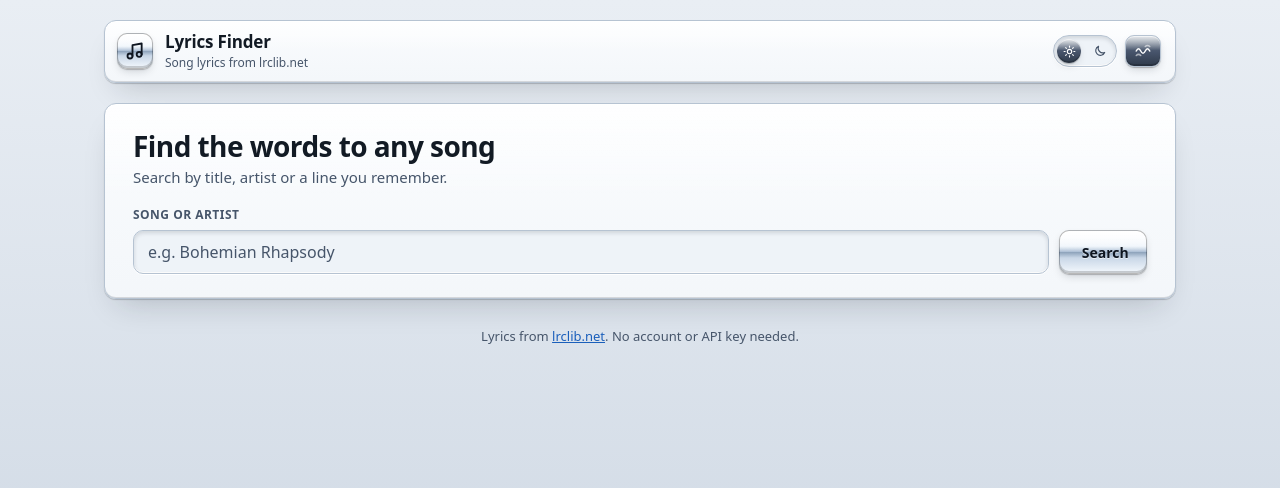
Test: search › says when nothing matched
The image size is (1280, 488).
Type "zzzz" into the search field labelled "Song or artist" at {"x": 591, "y": 252}, box [133, 230, 1049, 274]
Then press Enter
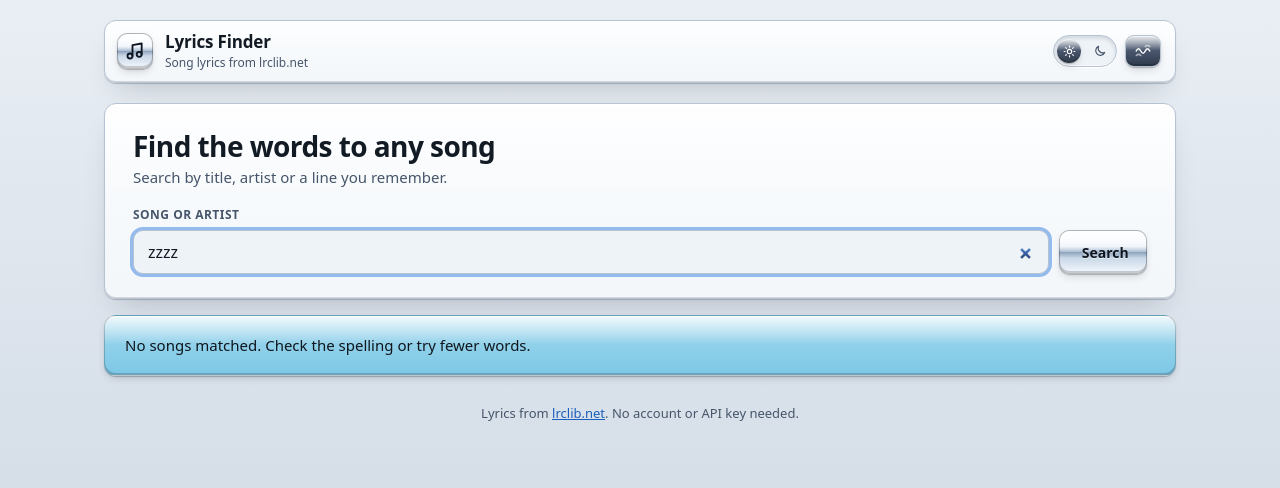
Now the message shows "No songs matched", box [125, 335, 531, 355]
